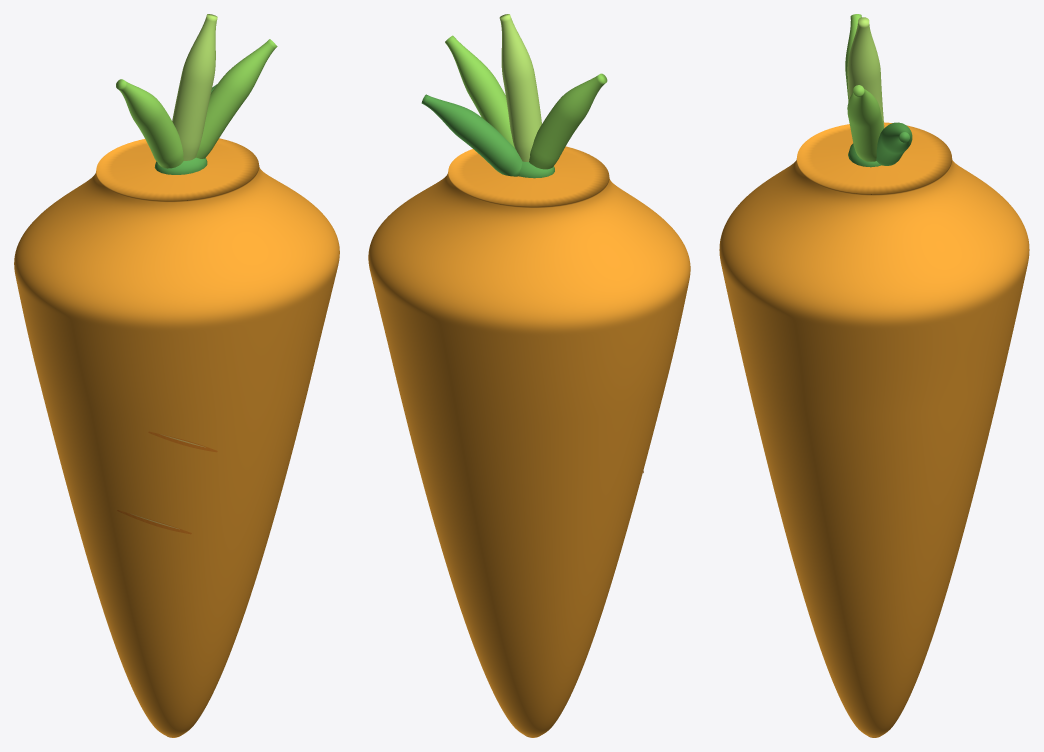
The model's file is Crop_Carrot_Normal_v001_reference_r07.fbx.
The picture shows the model from 3 angles, left to right: view 1: azimuth 30°, elevation 25°; view 2: azimuth 150°, elevation 25°; view 3: azimuth 270°, elevation 25°; orthographic projection. The views are drawn at different scales.
Parts seen in each view (by area): view 1: Crop_Carrot_Normal_v001_Body_Reference_r07, LeafStem_CenterTall_Reference_r07, LeafStem_RightTall_Reference_r07, LeafStem_LeftBack_Reference_r07, LeafStem_CoreBase_Reference_r07; view 2: Crop_Carrot_Normal_v001_Body_Reference_r07, LeafStem_CenterTall_Reference_r07, LeafStem_LeftBack_Reference_r07, LeafStem_RightLow_Reference_r07, LeafStem_RightTall_Reference_r07; view 3: Crop_Carrot_Normal_v001_Body_Reference_r07, LeafStem_CenterTall_Reference_r07, LeafStem_RightTall_Reference_r07, LeafStem_RightLow_Reference_r07.
Part boxes in pixels (x1,y1,x2,y2): Crop_Carrot_Normal_v001_Body_Reference_r07: (14, 138, 339, 737); LeafStem_CenterTall_Reference_r07: (172, 14, 217, 160); LeafStem_RightTall_Reference_r07: (196, 39, 277, 158); LeafStem_LeftBack_Reference_r07: (116, 79, 183, 168); LeafStem_CoreBase_Reference_r07: (154, 157, 207, 174); Crop_Carrot_Normal_v001_Body_Reference_r07: (368, 146, 690, 737); LeafStem_CenterTall_Reference_r07: (499, 14, 541, 161); LeafStem_LeftBack_Reference_r07: (529, 73, 607, 169); LeafStem_RightLow_Reference_r07: (421, 94, 522, 176); LeafStem_RightTall_Reference_r07: (445, 35, 514, 147); Crop_Carrot_Normal_v001_Body_Reference_r07: (719, 122, 1029, 737); LeafStem_CenterTall_Reference_r07: (847, 17, 884, 128); LeafStem_RightTall_Reference_r07: (847, 85, 883, 161); LeafStem_RightLow_Reference_r07: (876, 122, 912, 165).
Bounding box in the file's own units: 108 × 257 × 98.13.
